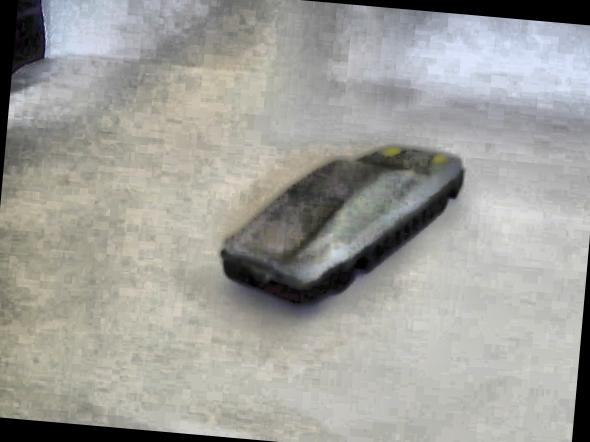normal_car: (210, 127, 469, 322)
